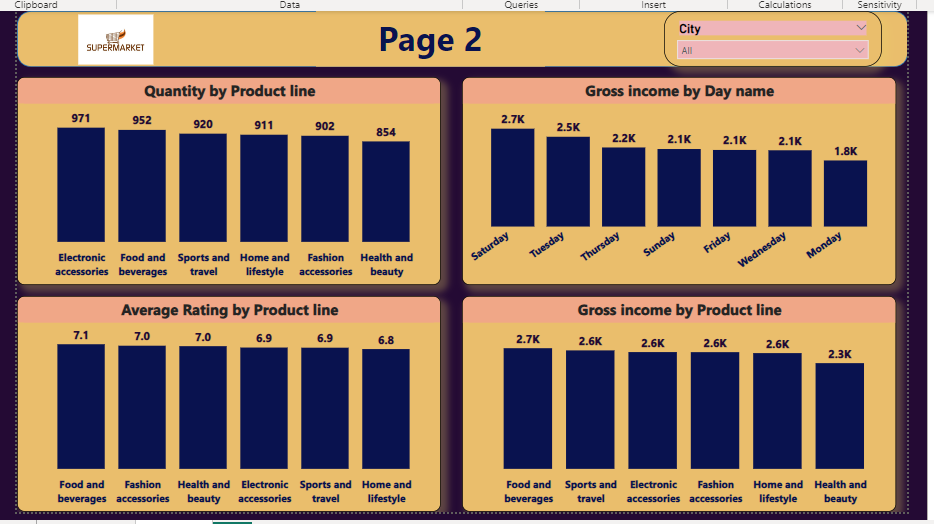

What the dashboard file says about the page in this screenshot:
{"tool":"powerbi","page":{"name":"Page 2","canvas":[1280,720],"ordinal":1},"visuals":[{"type":"shape","box":[0,0,1280.5,80.5],"z":0},{"type":"clusteredColumnChart","title":"Quantity by Product line","fields":{"Y":["Sum(supermarket_sales.Quantity)"],"Category":["supermarket_sales.Product line"]},"box":[0,94.9,609.3,298.9],"z":2000},{"type":"columnChart","title":"Average Rating by Product line","fields":{"Category":["supermarket_sales.Product line"],"Y":["Avg(supermarket_sales.Rating)"]},"box":[0,409.6,609.3,310.4],"z":3000},{"type":"clusteredColumnChart","title":" Gross income by Day name","fields":{"Y":["Sum(supermarket_sales.gross income)"],"Category":["supermarket_sales.Day name"]},"box":[639.5,94.9,623.7,298.9],"z":4000},{"type":"clusteredColumnChart","title":"Gross income by Product line","fields":{"Category":["supermarket_sales.Product line"],"Y":["Sum(supermarket_sales.gross income)"]},"box":[639.5,409.6,623.7,310.4],"z":5000},{"type":"slicer","fields":{"Values":["supermarket_sales.City"]},"box":[929.8,0,313.3,80.5],"z":5001},{"type":"image","box":[0,0,283.1,81.9],"z":5002},{"type":"textbox","box":[429.7,0,329.1,80.5],"z":5003}]}

Visuals, with their boxes on the page's 1280x720 design canvas (x1, y1, x2, y2). These are canvas units, not pixel positions in the 934x524 screenshot, which may show the page scaled, cropped or inside an application window:
shape: [left=0, top=0, right=1280, bottom=80]
"Quantity by Product line" clusteredColumnChart: [left=0, top=95, right=609, bottom=394]
"Average Rating by Product line" columnChart: [left=0, top=410, right=609, bottom=720]
" Gross income by Day name" clusteredColumnChart: [left=640, top=95, right=1263, bottom=394]
"Gross income by Product line" clusteredColumnChart: [left=640, top=410, right=1263, bottom=720]
slicer - supermarket_sales.City: [left=930, top=0, right=1243, bottom=80]
image: [left=0, top=0, right=283, bottom=82]
textbox: [left=430, top=0, right=759, bottom=80]
